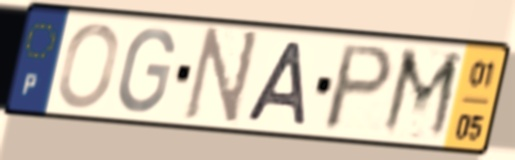A: (241, 38, 308, 128)
G: (114, 25, 178, 116)
M: (376, 43, 467, 145)
N: (179, 25, 264, 130)
O: (54, 21, 123, 112)
P: (318, 41, 399, 134)
